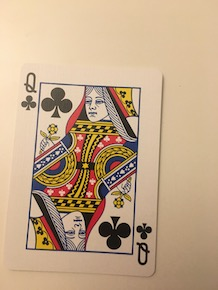QueenOfClubs: (3, 61, 166, 281)
